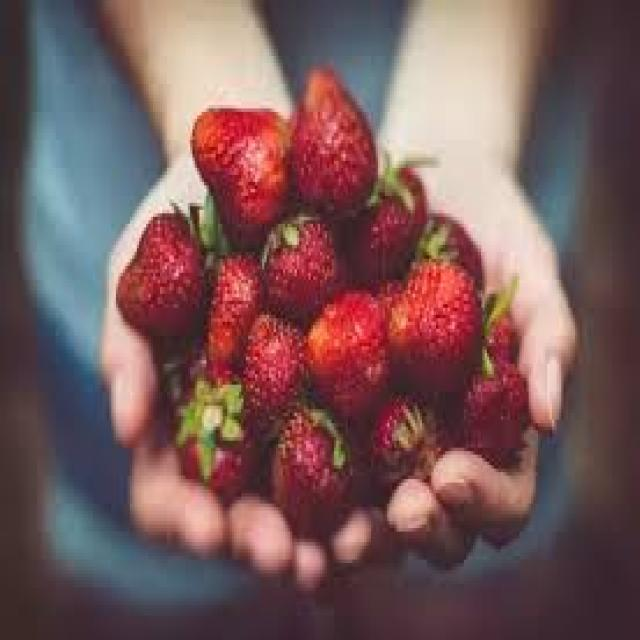biodegradable: (114, 196, 216, 332), (387, 248, 480, 395), (188, 105, 287, 241), (288, 63, 374, 206), (269, 399, 350, 542), (174, 367, 260, 500), (309, 287, 390, 423), (364, 385, 452, 507), (258, 206, 344, 322), (450, 346, 524, 465), (341, 154, 413, 276), (237, 311, 306, 434), (202, 245, 257, 371), (413, 210, 482, 287), (160, 339, 204, 420), (478, 283, 517, 364), (390, 158, 427, 228), (371, 277, 403, 312)
